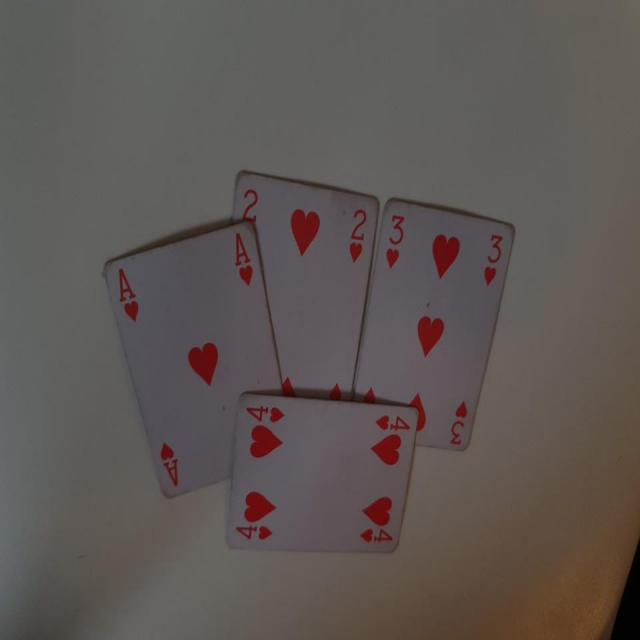2 Hearts: (226, 166, 399, 409)
3 Hearts: (349, 192, 524, 459)
4 Hearts: (219, 391, 427, 570)
A Hearts: (109, 220, 300, 521)
